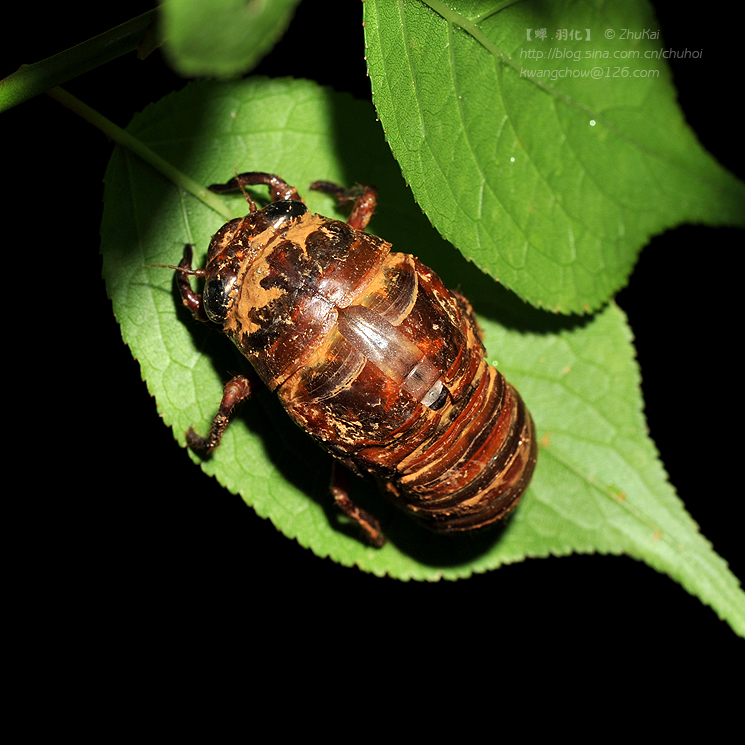chunchong: (166, 190, 536, 549)
